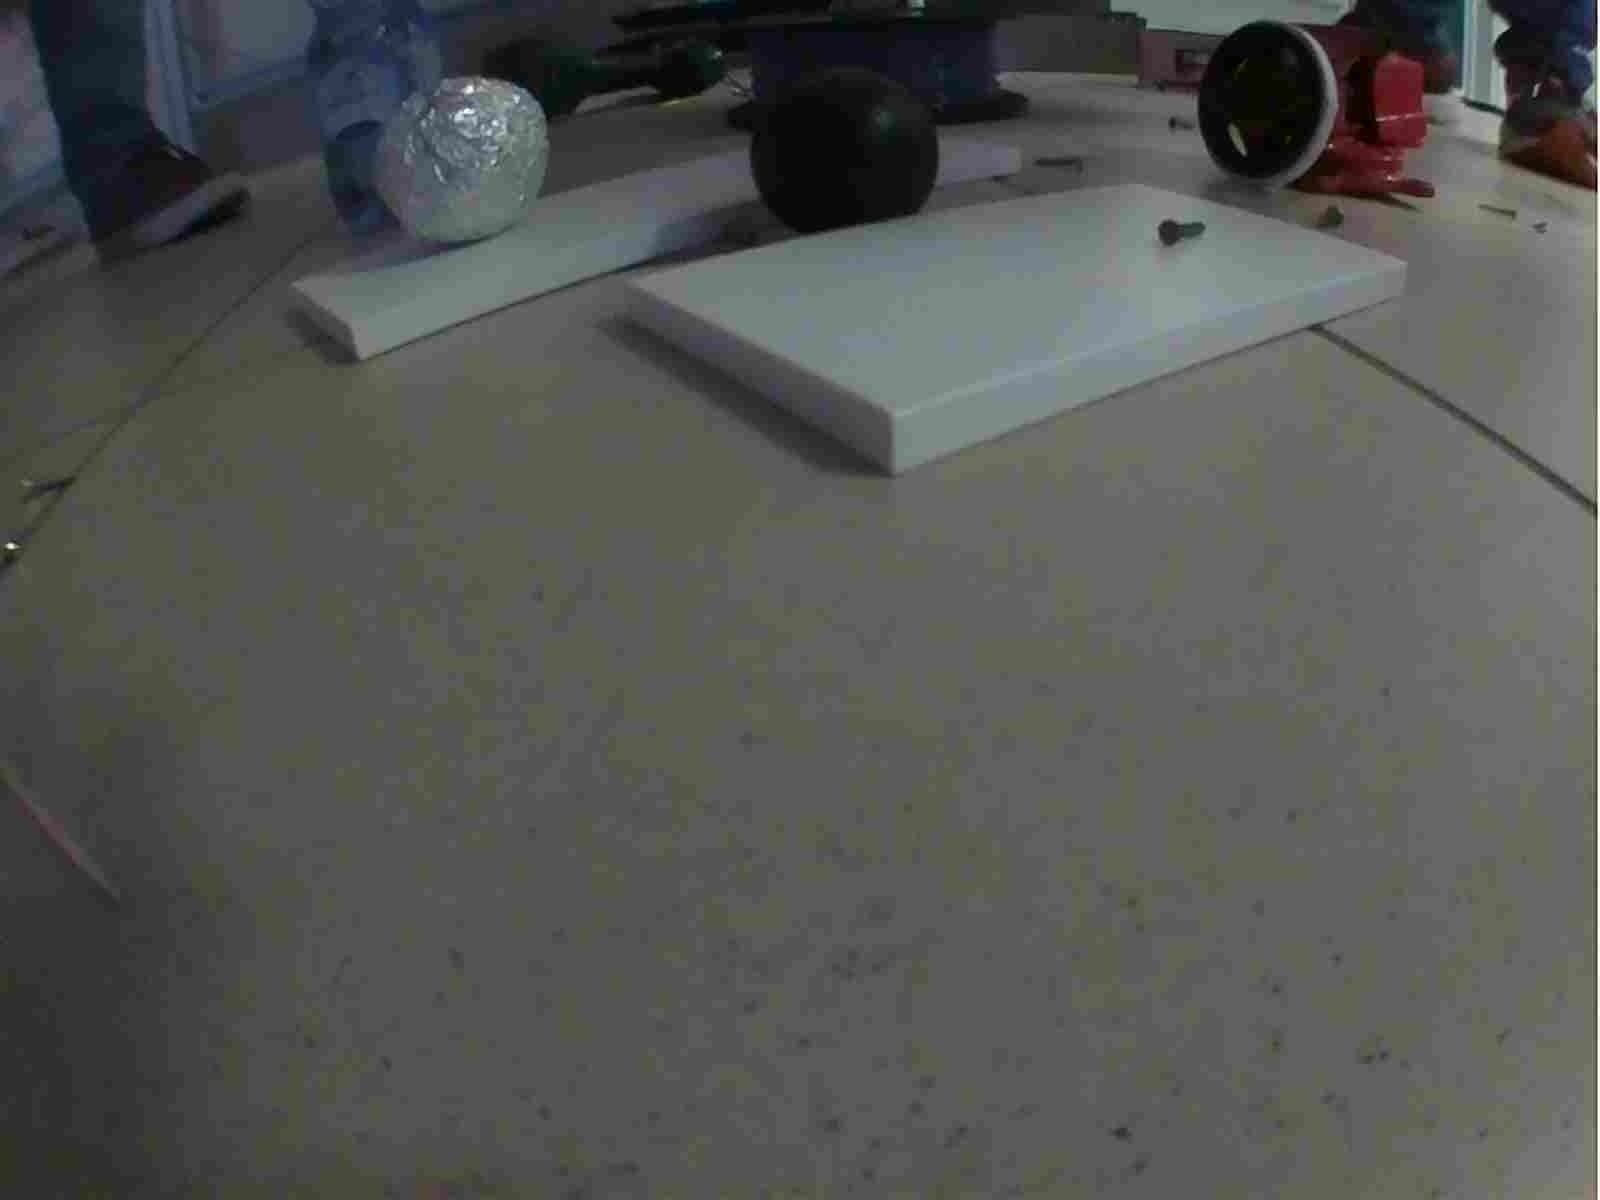bianca: (380, 73, 551, 250)
